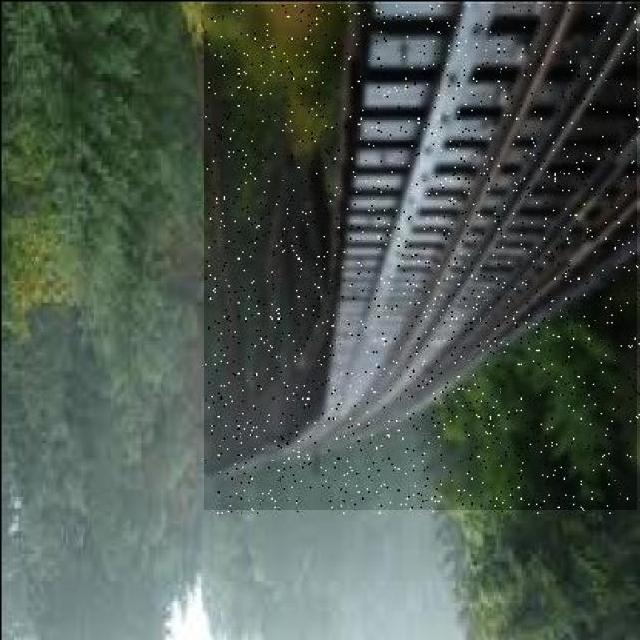rail: (206, 6, 638, 511)
